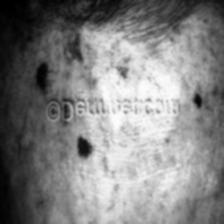Unclassified: (31, 24, 162, 90), (61, 134, 95, 165), (192, 92, 206, 116)
